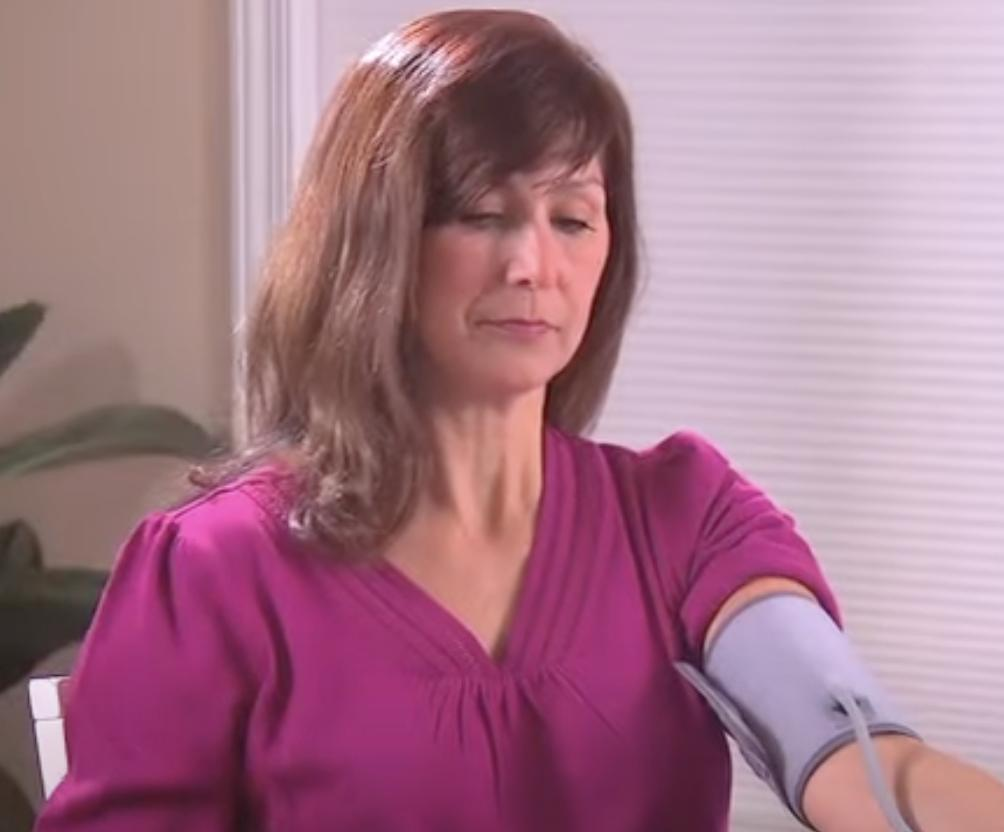cuff: (684, 592, 914, 822)
